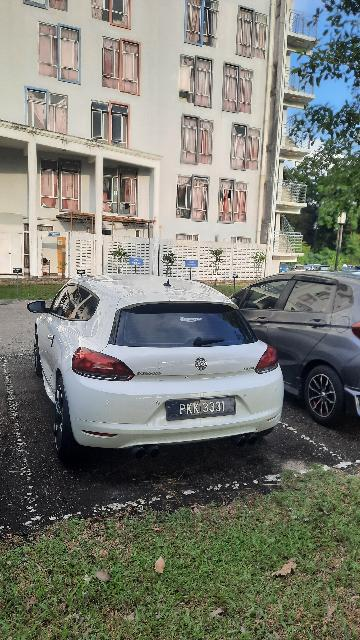License_Plate: (161, 394, 250, 425)
car: (29, 272, 288, 458), (227, 271, 360, 429)
